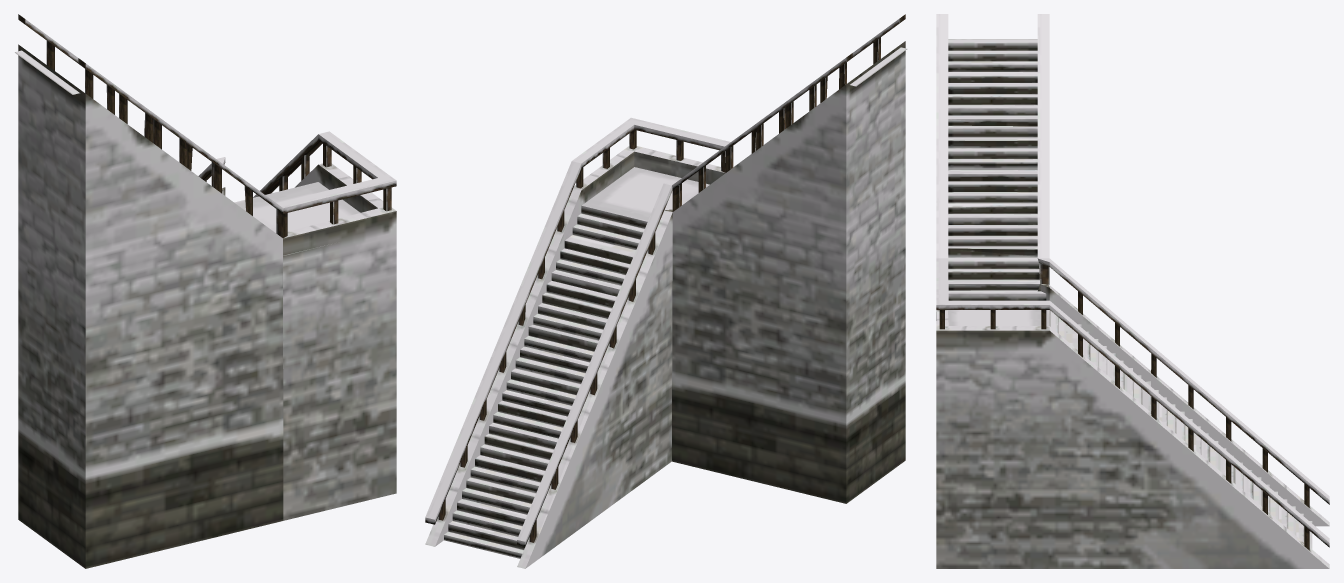
Rendered from general_obj_watchtower02.glb.
3 views of the same model, side by side, from view 1: azimuth 30°, elevation 25°; view 2: azimuth 150°, elevation 25°; view 3: azimuth 270°, elevation 25° (orthographic). The views are drawn at different scales.
Visible parts, largest first — view 1: general_obj_watchtower02; view 2: general_obj_watchtower02; view 3: general_obj_watchtower02.
Boxes of the visible parts, x1,y1,x2,y2 form: general_obj_watchtower02: (15,14,396,568); general_obj_watchtower02: (425,14,907,568); general_obj_watchtower02: (936,14,1329,568).
Size of the model in its own units: 7.99 by 12.12 by 10.12.
1 material, 1 textured.
